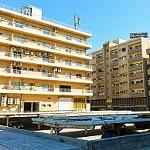building: (0, 0, 93, 125)
